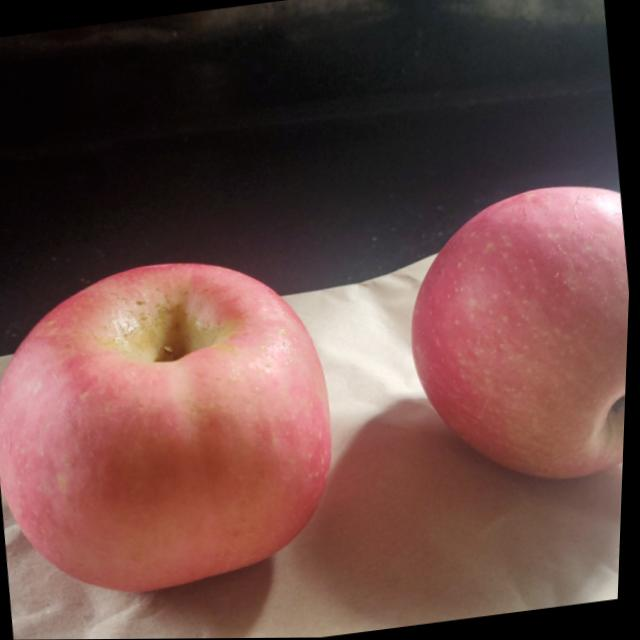apple: (0, 244, 352, 608), (395, 186, 634, 505)
